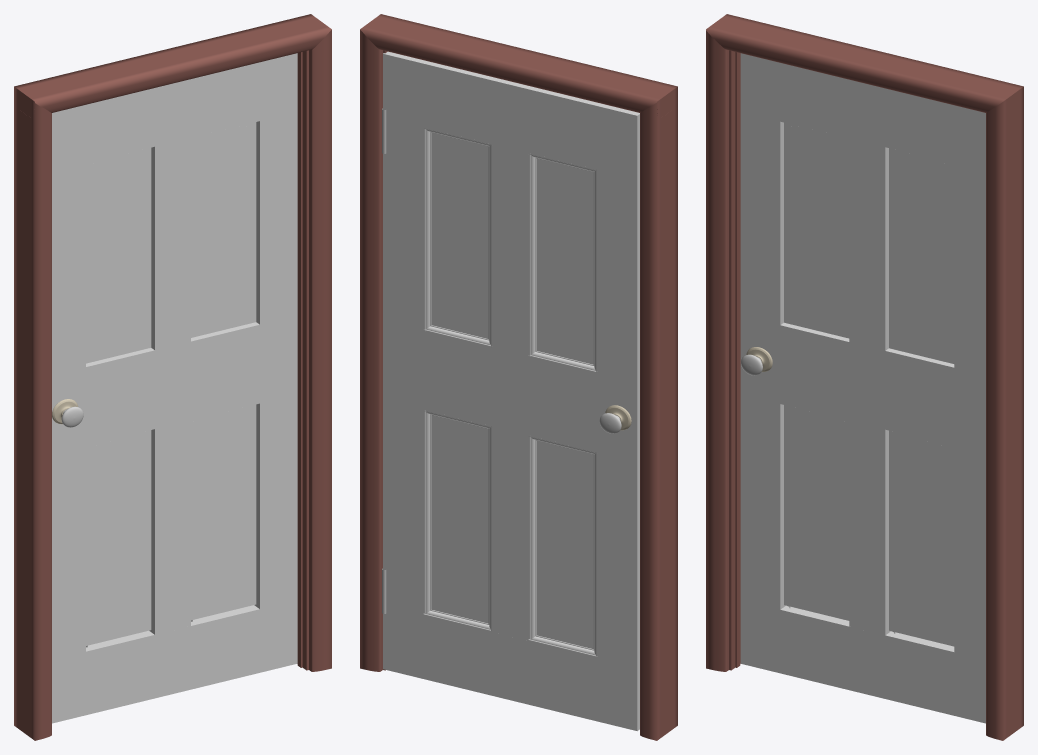
Rendered from doorPortal.gltf.
3 renders of one model, left to right at view 1: azimuth 30°, elevation 25°; view 2: azimuth 150°, elevation 25°; view 3: azimuth 330°, elevation 25°, orthographic.
Visible parts, largest first — view 1: doorPortal; view 2: doorPortal; view 3: doorPortal.
Boxes of the visible parts, x1,y1,x2,y2 form: doorPortal: (14, 14, 331, 740); doorPortal: (360, 14, 677, 740); doorPortal: (706, 14, 1023, 740).
Size of the model in its own units: 1.14 by 2.35 by 0.1823.
